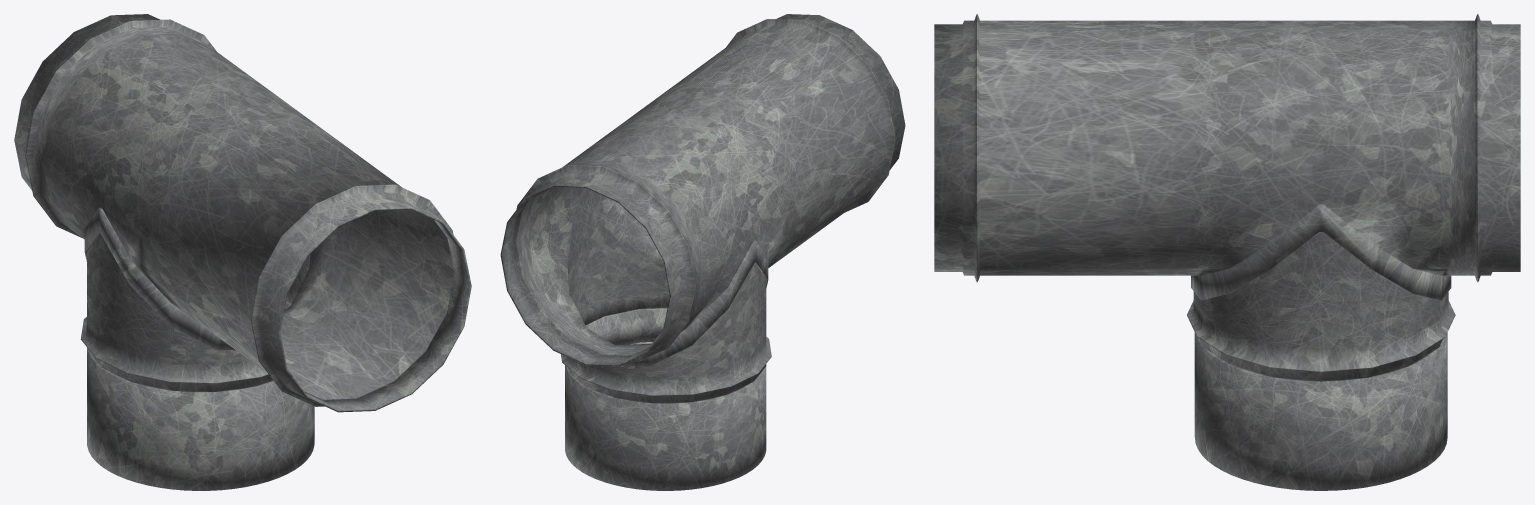
File: Wenty.fbx
3 views of the same model, side by side, from view 1: azimuth 30°, elevation 25°; view 2: azimuth 150°, elevation 25°; view 3: azimuth 270°, elevation 25° (orthographic). The views are drawn at different scales.
Parts seen in each view (by area): view 1: Cube.713, Cube.714; view 2: Cube.713, Cube.714; view 3: Cube.713, Cube.714.
Part boxes in pixels (x1,y1,x2,y2): Cube.713: (14,14,471,412); Cube.714: (87,350,314,490); Cube.713: (500,14,905,403); Cube.714: (565,342,766,490); Cube.713: (934,14,1520,381); Cube.714: (1194,332,1447,490).
Bounding box in the file's own units: 4261 × 7193 × 9301.
